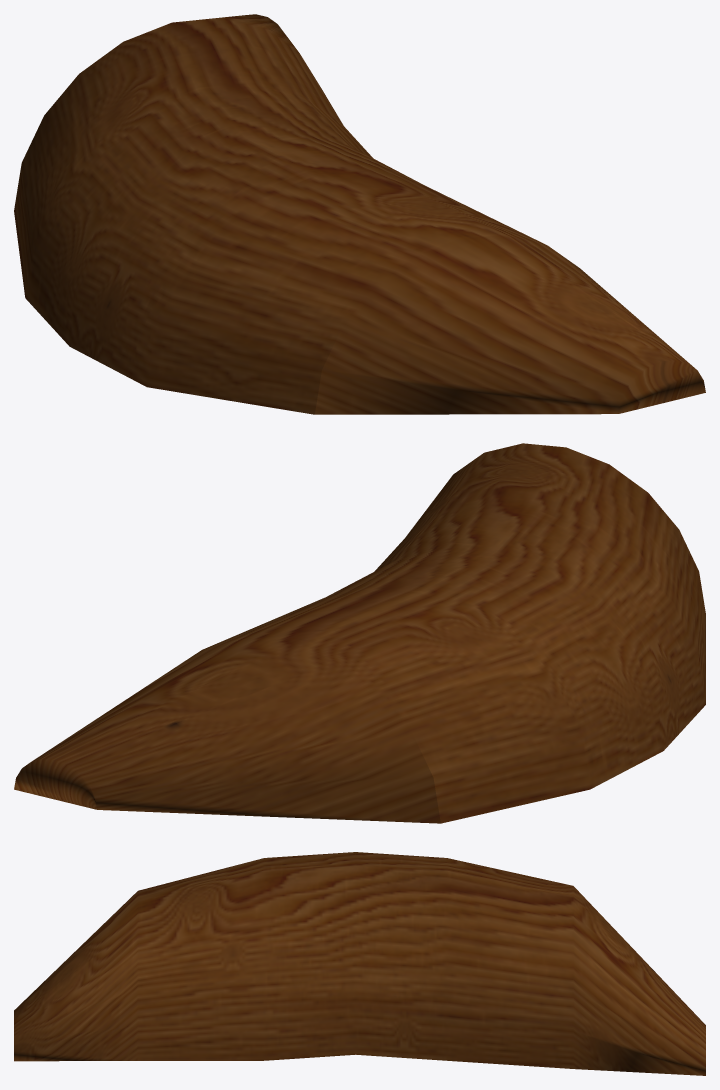
The model's file is shengbei.fbx.
3 renders of one model, top to bottom at view 1: azimuth 30°, elevation 25°; view 2: azimuth 150°, elevation 25°; view 3: azimuth 270°, elevation 25°, orthographic. The views are drawn at different scales.
Parts seen in each view (by area): view 1: pCylinder1; view 2: pCylinder1; view 3: pCylinder1.
Boxes of the visible parts, bbox=[...] form: pCylinder1: bbox=[14, 14, 705, 414]; pCylinder1: bbox=[14, 443, 705, 823]; pCylinder1: bbox=[14, 852, 705, 1075].
Bounding box in the file's own units: 11.23 × 3.96 × 19.92.
1 material, 1 textured.
